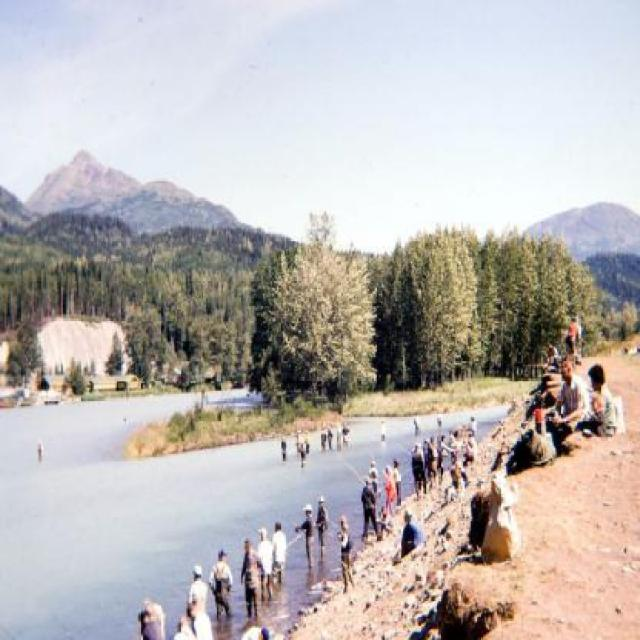Person: (412, 415, 478, 500), (551, 352, 591, 442), (278, 422, 354, 469), (575, 364, 616, 436), (238, 538, 268, 614), (335, 514, 357, 594), (210, 545, 232, 618), (359, 475, 381, 539), (293, 504, 315, 567), (399, 506, 426, 557), (313, 494, 329, 560), (564, 312, 582, 363), (588, 392, 607, 433)
